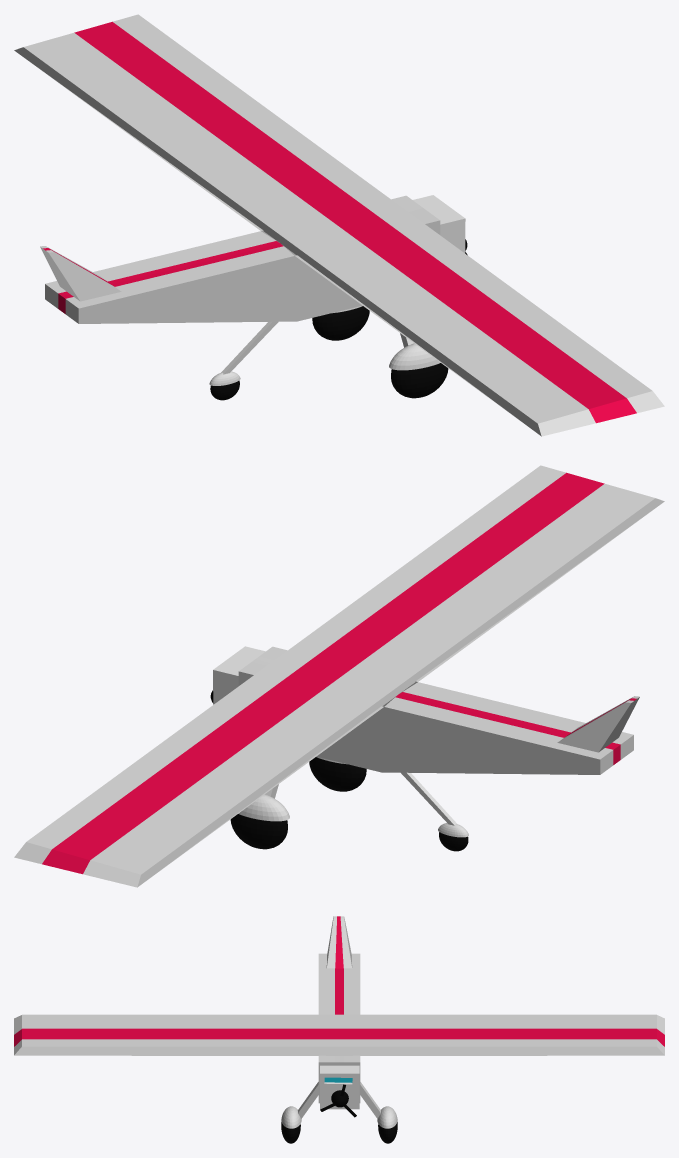
The picture shows the model from 3 angles, top to bottom: view 1: azimuth 30°, elevation 25°; view 2: azimuth 150°, elevation 25°; view 3: azimuth 270°, elevation 25°; orthographic projection. The views are drawn at different scales.
Parts seen in each view (by area): view 1: hull and fron wheels, tailfin, cockpit, back wheel; view 2: hull and fron wheels, tailfin, cockpit, back wheel; view 3: hull and fron wheels, cockpit, tailfin, rotor.
Part boxes in pixels (x1,y1,x2,y2): hull and fron wheels: [14, 14, 664, 436]; tailfin: [40, 246, 121, 301]; cockpit: [413, 195, 465, 253]; back wheel: [209, 321, 278, 400]; hull and fron wheels: [14, 465, 664, 887]; tailfin: [557, 696, 639, 752]; cockpit: [213, 646, 265, 704]; back wheel: [401, 772, 468, 851]; hull and fron wheels: [14, 953, 664, 1143]; cockpit: [320, 1065, 359, 1109]; tailfin: [326, 916, 352, 968]; rotor: [320, 1084, 356, 1117].
Size of the model in its own units: 329 by 149 by 710.
